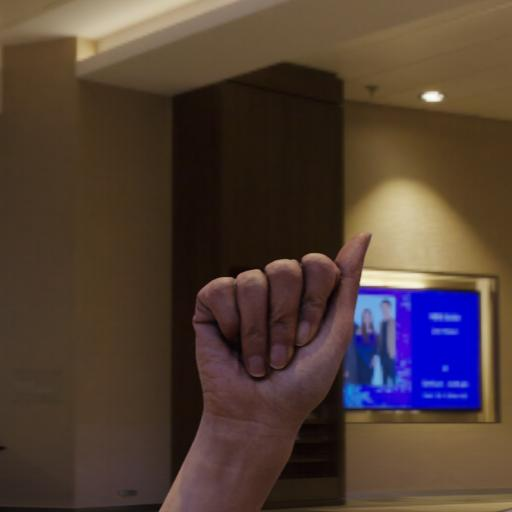A: (179, 226, 391, 428)
